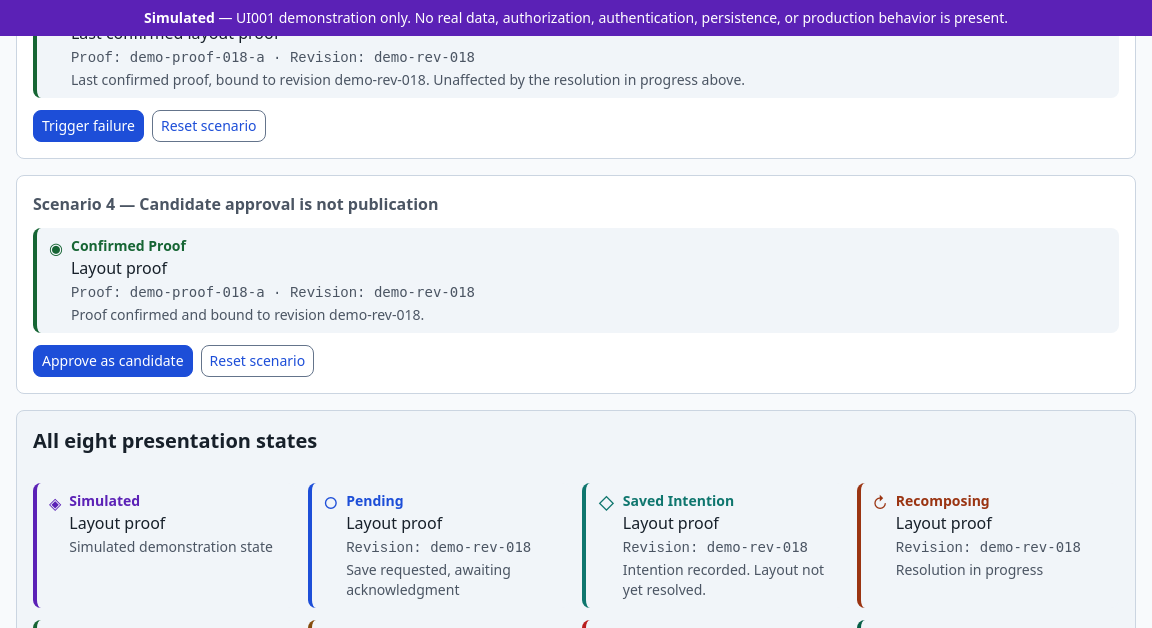
Scenario: Showcase — scenario sequences (§10.4) › Scenario 4: approved candidate always shows 'Not published'
(page scrolled)
Expected: the 1st text "Confirmed Proof" is shown, [71, 236, 186, 255]
Click the button "Approve as candidate".
click(113, 361)  # box [33, 345, 193, 377]
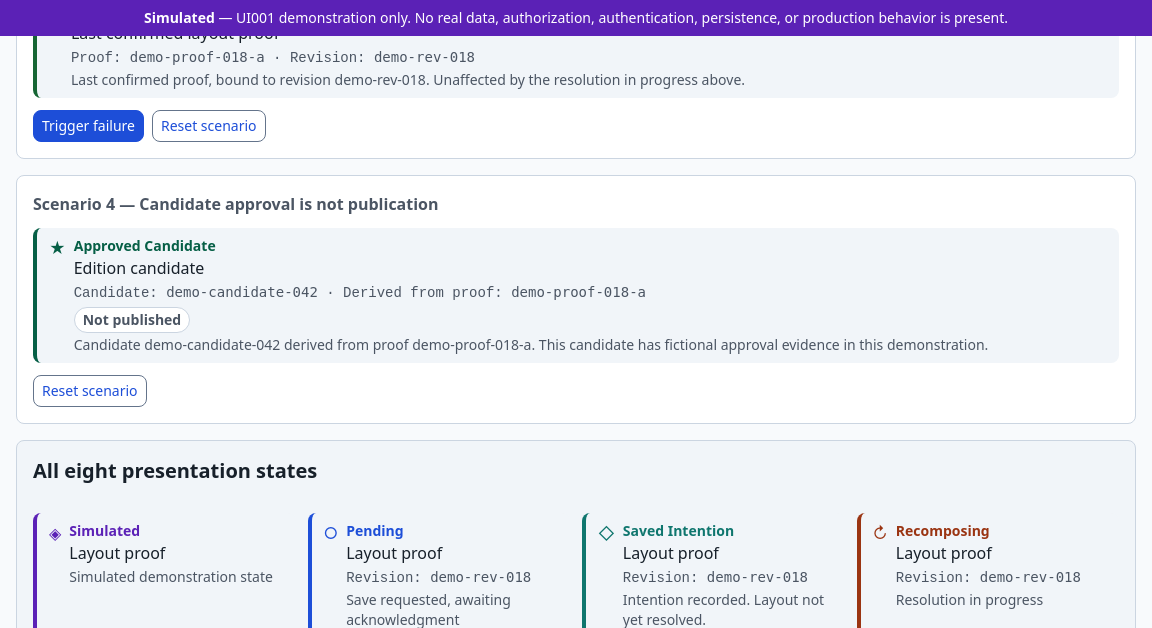
Expected: the 1st text "Approved Candidate" is shown, [74, 236, 216, 255]
Expected: the 1st text "demo-candidate-042" is shown, [166, 284, 318, 300]
Expected: the text "Not published" is shown, [74, 307, 190, 333]
